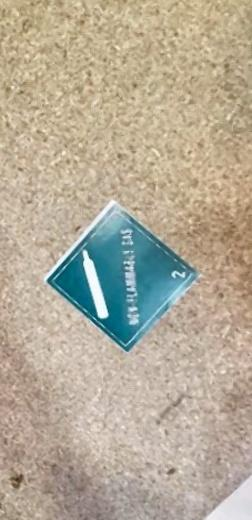non-flammable-gas: (43, 199, 199, 355)
